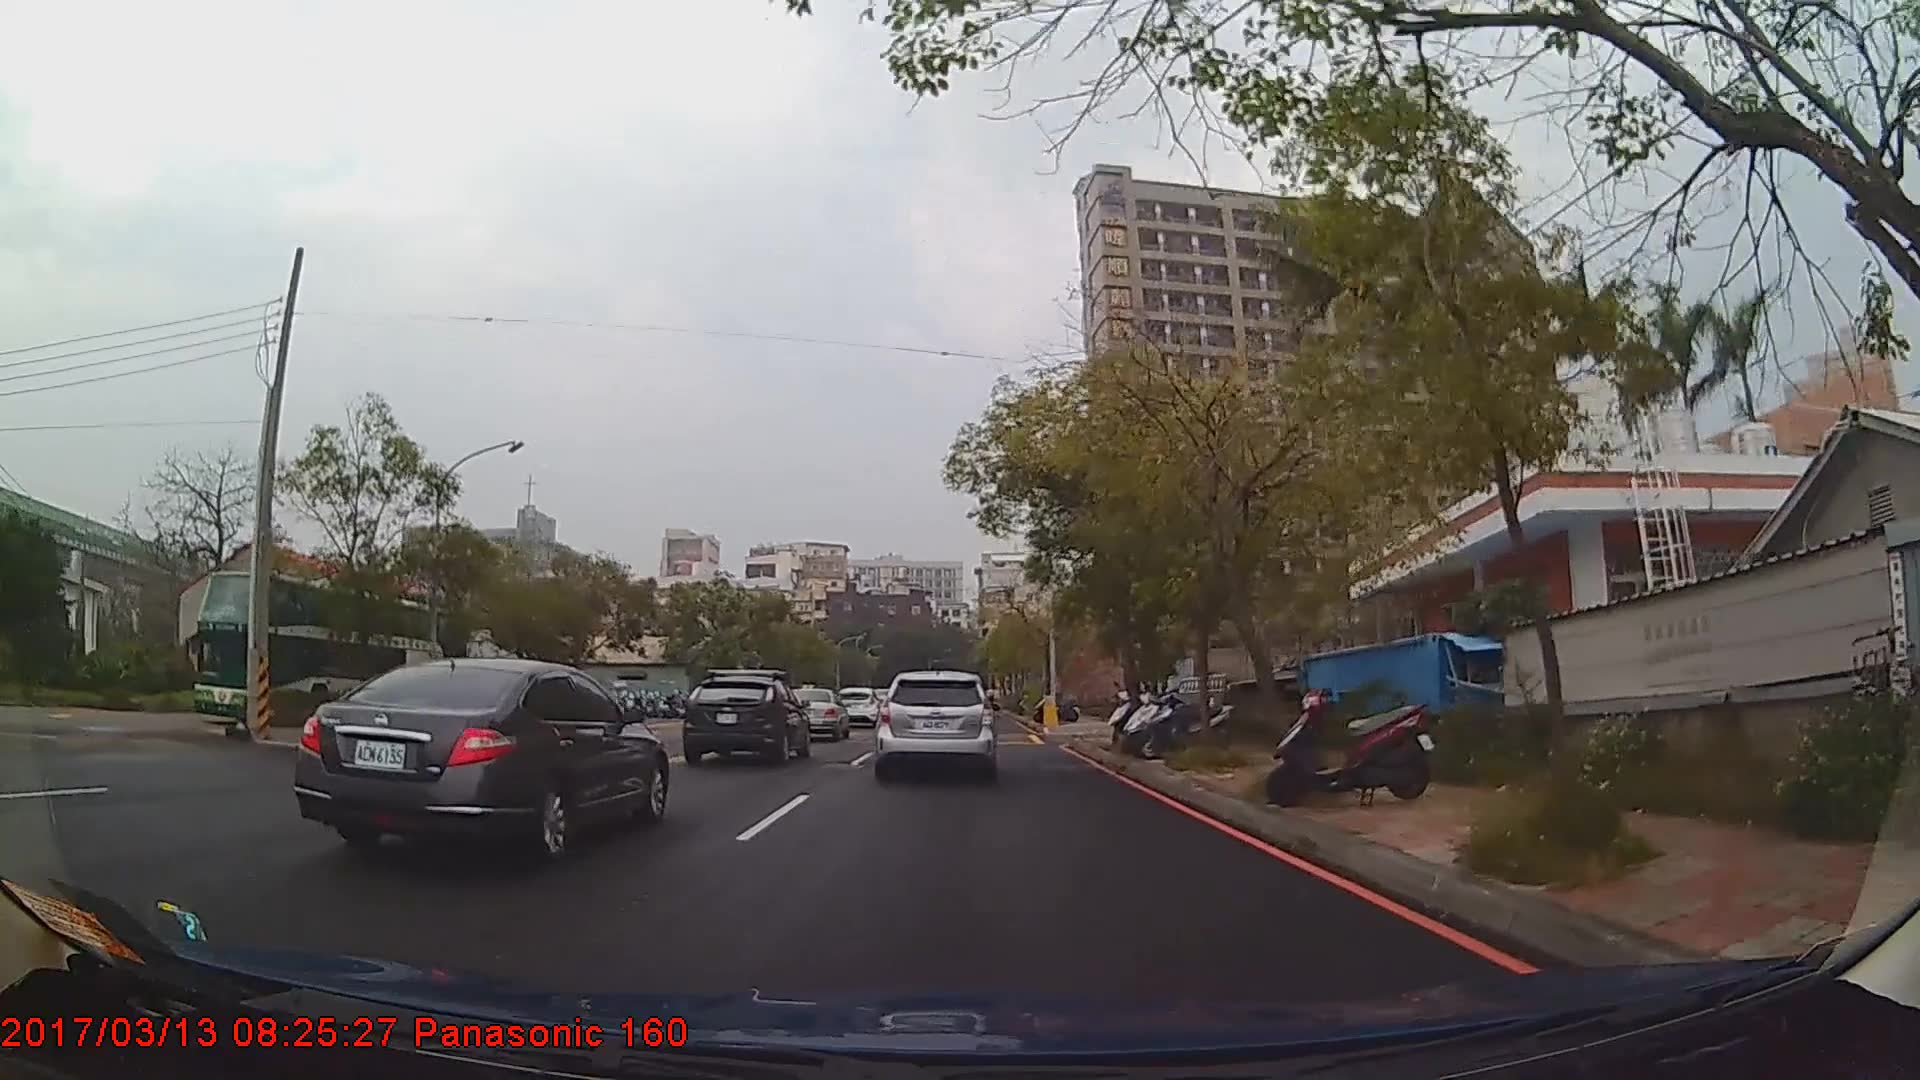vehicle: (293, 655, 669, 858), (190, 571, 439, 733), (876, 666, 996, 778), (680, 670, 810, 767), (785, 684, 848, 738), (835, 684, 881, 727)
